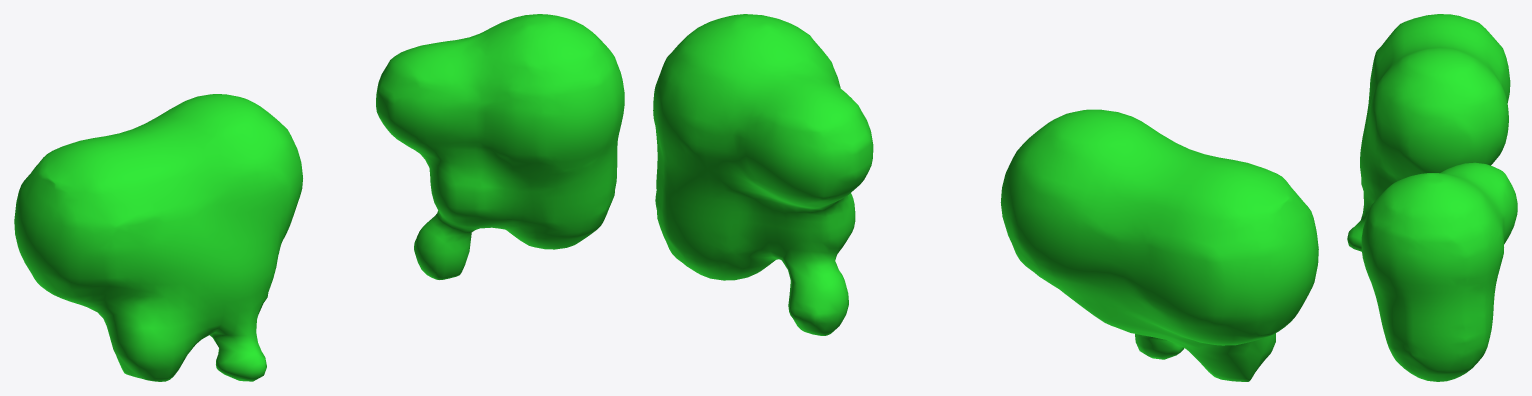
File: silimemainmenü.fbx
3 renders of one model, left to right at view 1: azimuth 30°, elevation 25°; view 2: azimuth 150°, elevation 25°; view 3: azimuth 270°, elevation 25°, orthographic. The views are drawn at different scales.
Parts seen in each view (by area): view 1: Mball.006, Mball.013; view 2: Mball.006, Mball.013; view 3: Mball.013, Mball.006.
Boxes of the visible parts, bbox=[...] form: Mball.006: bbox=[14, 94, 302, 381]; Mball.013: bbox=[376, 14, 624, 279]; Mball.006: bbox=[1000, 109, 1318, 381]; Mball.013: bbox=[653, 14, 873, 335]; Mball.013: bbox=[1361, 162, 1517, 381]; Mball.006: bbox=[1347, 14, 1510, 251].
Bounding box in the file's own units: 891 × 270 × 364.
